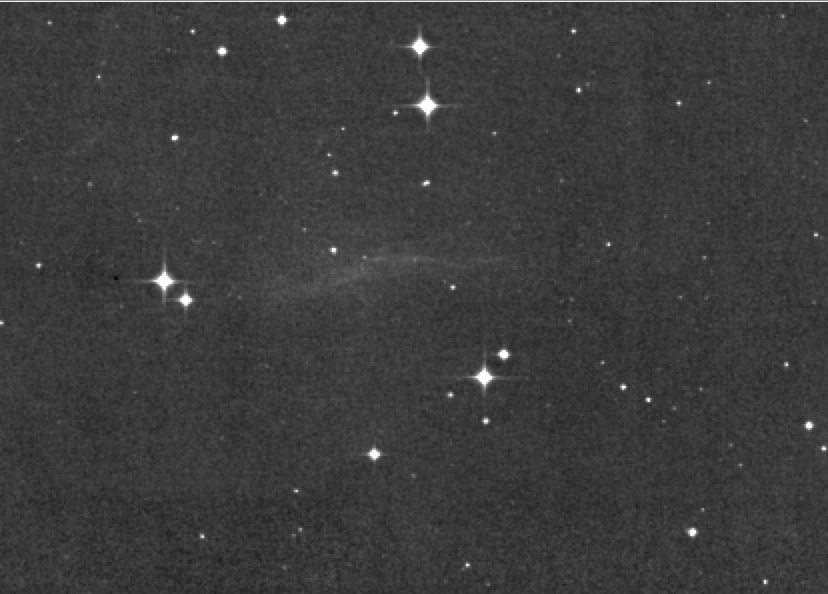Halpha: (51, 58, 320, 173), (243, 231, 568, 311)
